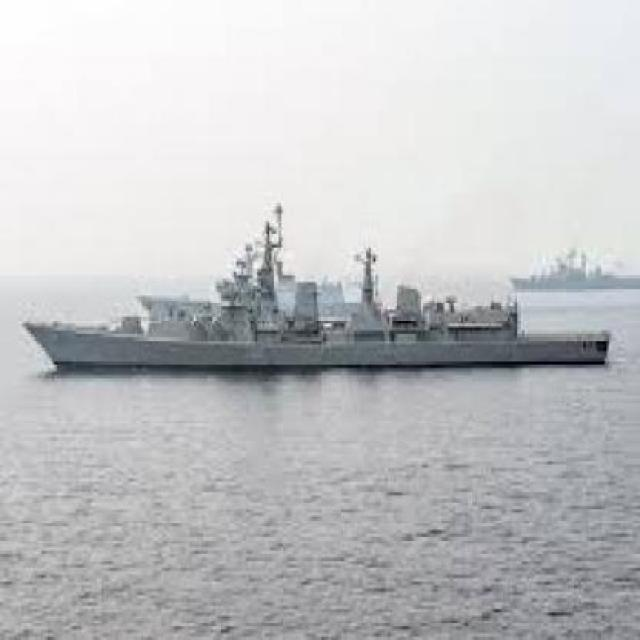warship2: (22, 198, 617, 387)
